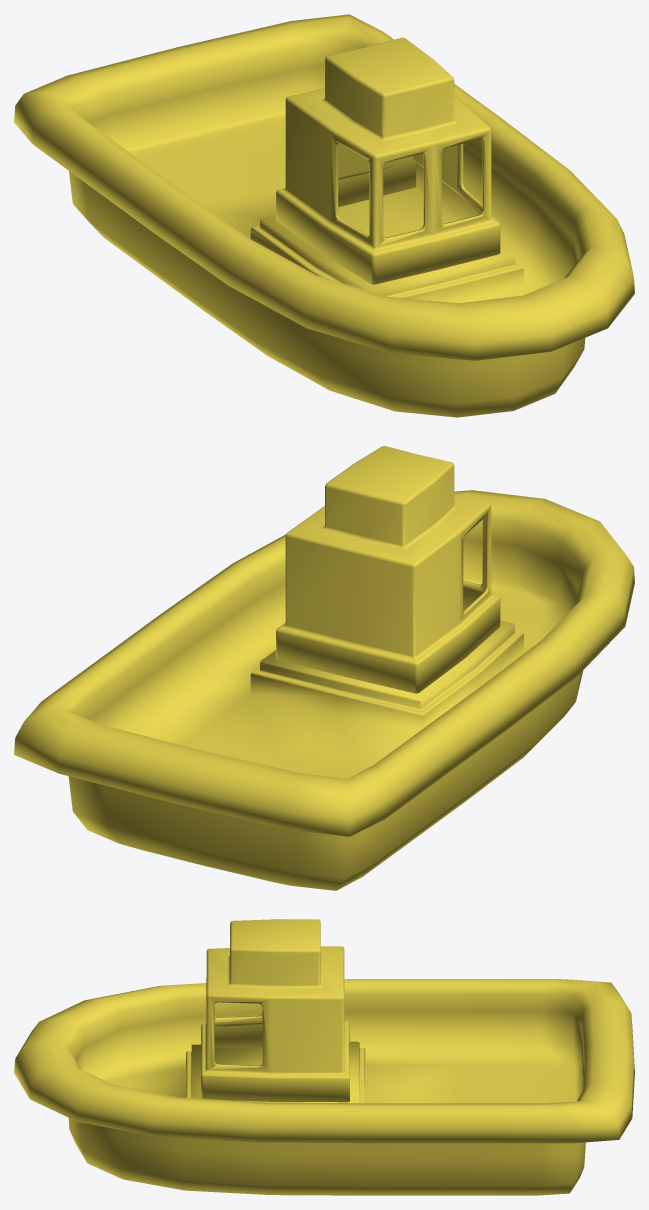
The model's file is ToyBoat.fbx.
The picture shows the model from 3 angles, top to bottom: view 1: azimuth 30°, elevation 25°; view 2: azimuth 150°, elevation 25°; view 3: azimuth 270°, elevation 25°; orthographic projection. The views are drawn at different scales.
Visible parts, largest first — view 1: BoatBase.001; view 2: BoatBase.001; view 3: BoatBase.001.
Boxes of the visible parts, x1,y1,x2,y2 form: BoatBase.001: (14,14,634,417); BoatBase.001: (14,446,634,890); BoatBase.001: (14,919,634,1195).
Bounding box in the file's own units: 116 × 81.67 × 215.
